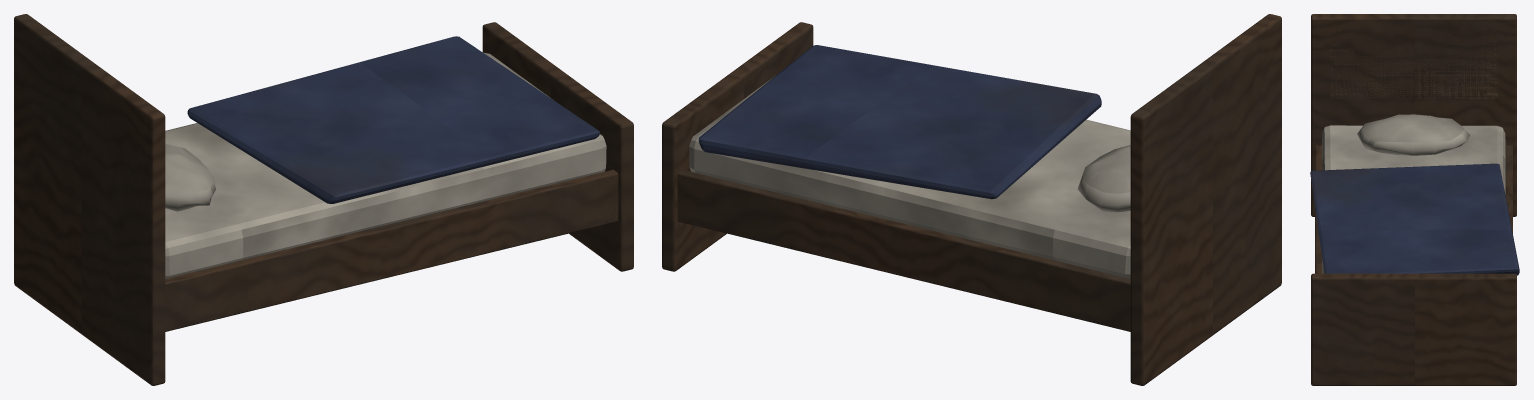
Rendered from B02_single_bed_v2.glb.
3 renders of one model, left to right at view 1: azimuth 30°, elevation 25°; view 2: azimuth 150°, elevation 25°; view 3: azimuth 270°, elevation 25°, orthographic. The views are drawn at different scales.
Visible parts, largest first — view 1: B02_single_bed_v2; view 2: B02_single_bed_v2; view 3: B02_single_bed_v2.
Boxes of the visible parts, left/top/right/bottom form: B02_single_bed_v2: left=14, top=14, right=633, bottom=385; B02_single_bed_v2: left=662, top=14, right=1281, bottom=385; B02_single_bed_v2: left=1310, top=14, right=1519, bottom=385.
Size of the model in its own units: 1.9 by 1.01 by 0.9657.
Materials: 4 (4 with a texture image).
